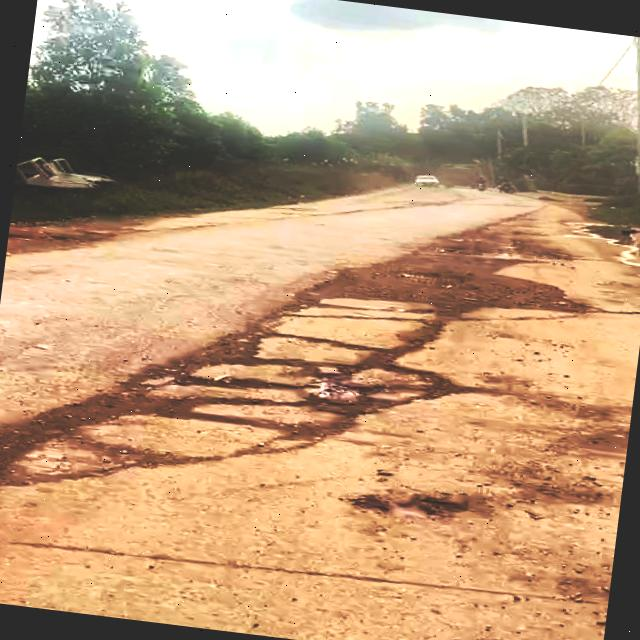pothole: (107, 313, 458, 467)
